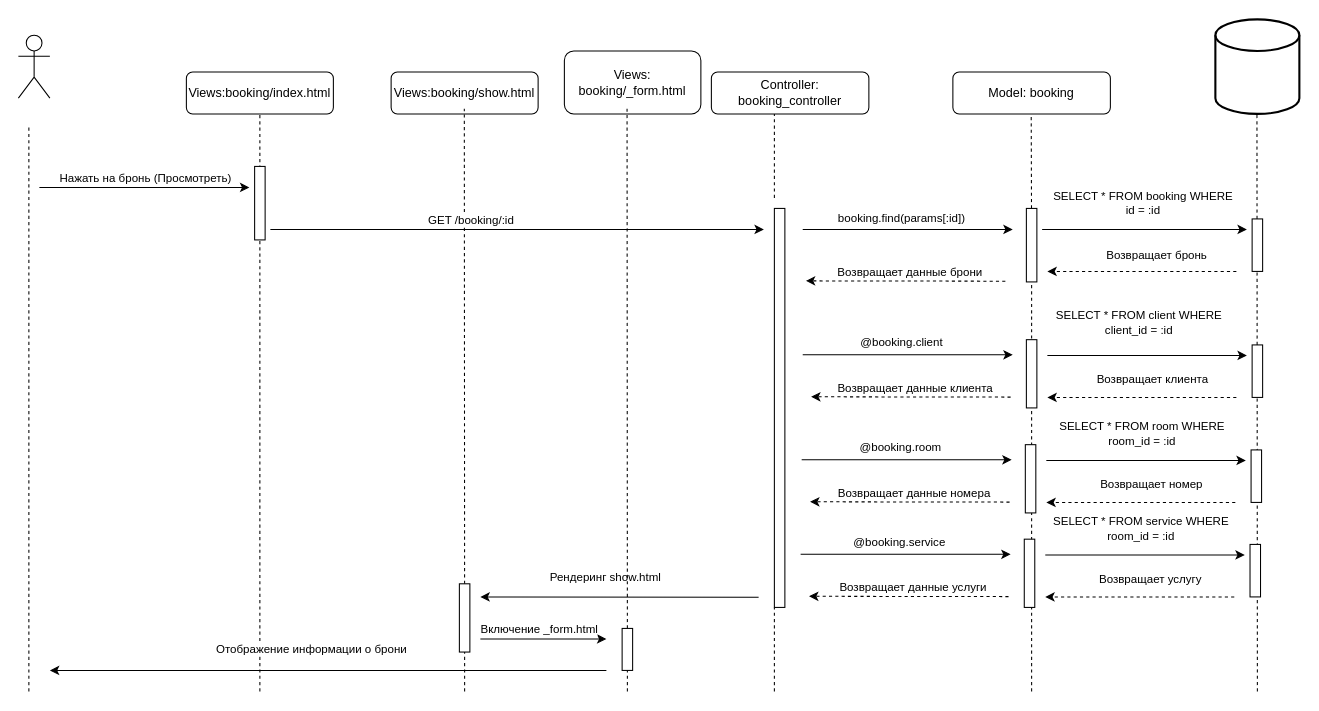
This 1319x711 diagram has some shape labels left out. The centre of each missing label's shape, as x and y in pixels:
"DB" goes at [1257,66].
"User" goes at [33,66].
